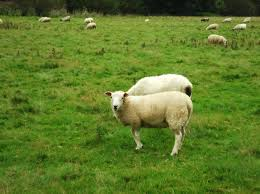sheep: (106, 90, 194, 155), (125, 72, 195, 106), (208, 35, 231, 48), (232, 22, 251, 34), (205, 23, 223, 32), (36, 15, 52, 25), (58, 14, 70, 24), (85, 22, 98, 31), (81, 16, 93, 24), (198, 16, 210, 23), (243, 17, 253, 25), (226, 16, 236, 23)
